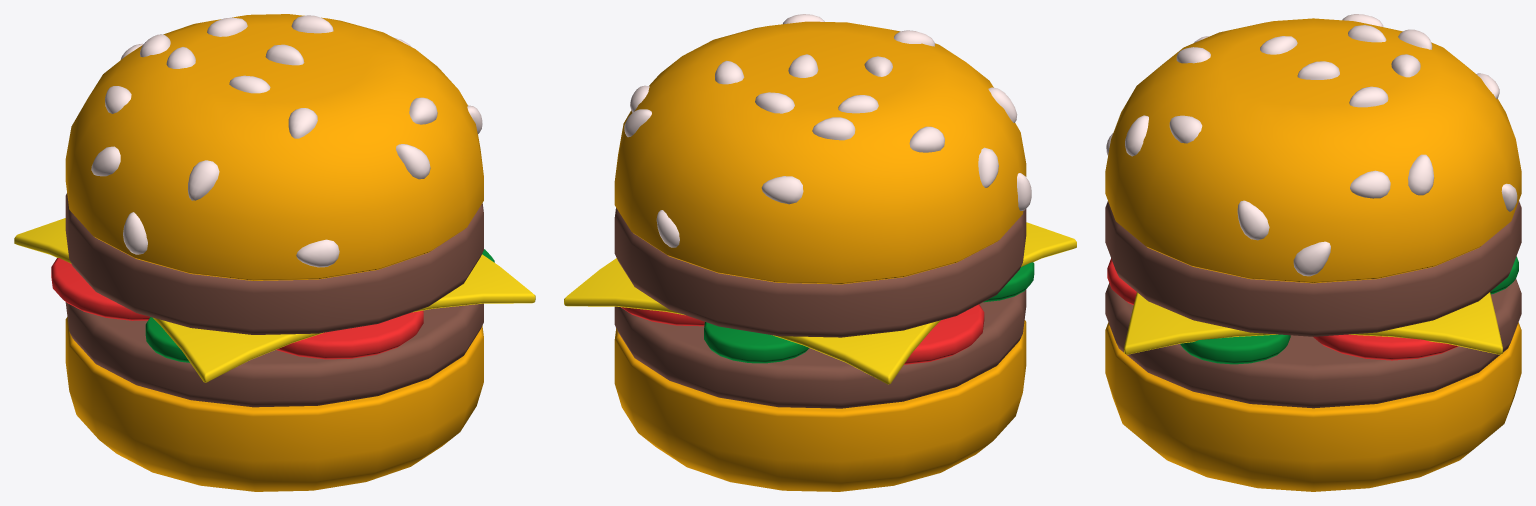
File: Store_2_Burger_2.glb
3 renders of one model, left to right at view 1: azimuth 30°, elevation 25°; view 2: azimuth 150°, elevation 25°; view 3: azimuth 270°, elevation 25°, orthographic.
Visible parts, largest first — view 1: Store_2_Burger_2; view 2: Store_2_Burger_2; view 3: Store_2_Burger_2.
Boxes of the visible parts, left/top/right/bottom form: Store_2_Burger_2: left=14, top=14, right=535, bottom=491; Store_2_Burger_2: left=564, top=14, right=1076, bottom=491; Store_2_Burger_2: left=1105, top=14, right=1521, bottom=491.
Bounding box in the file's own units: 0.3412 × 0.3227 × 0.333.
Materials: 1 (1 with a texture image).
